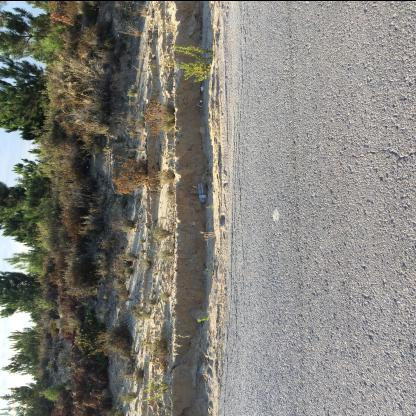plastik: (198, 182, 208, 203)
